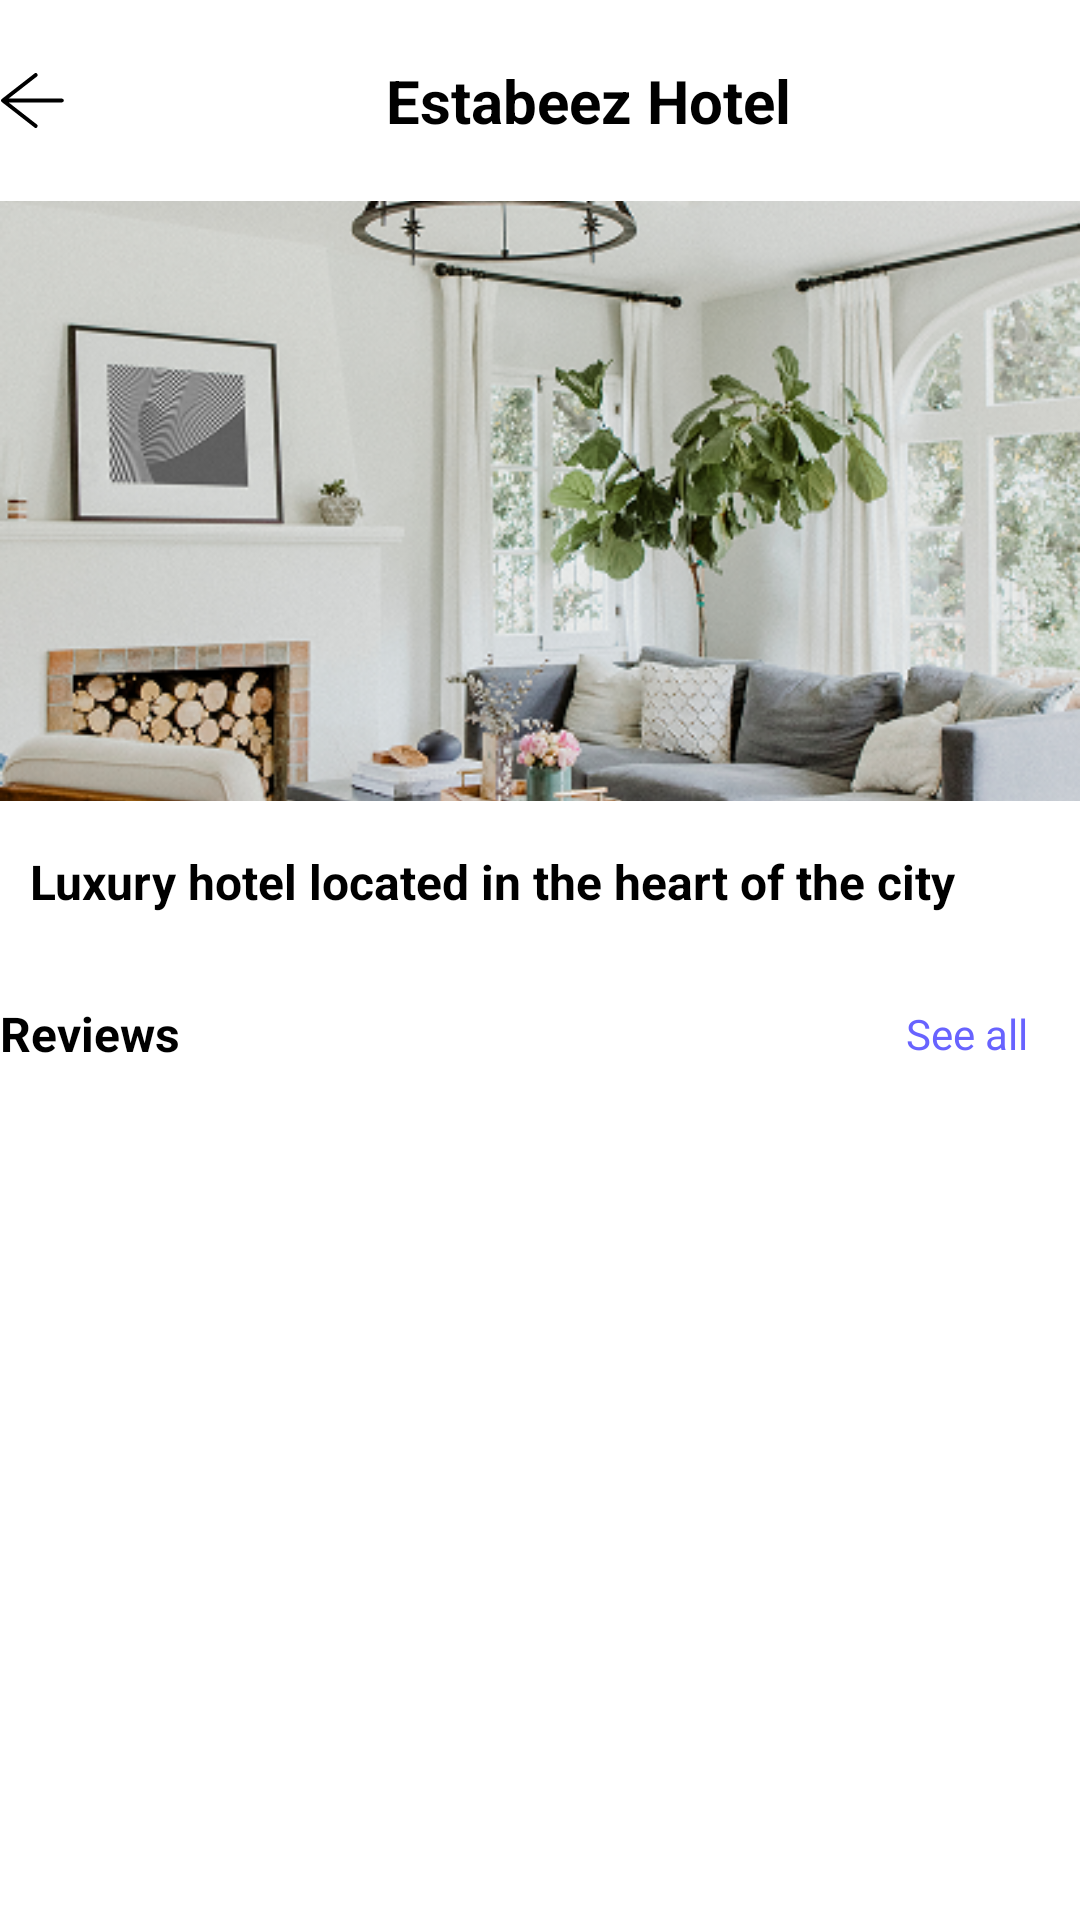

Where to tap for icons on this 1080*1920 app screen, as [x,y]:
Back button: [32,100]
